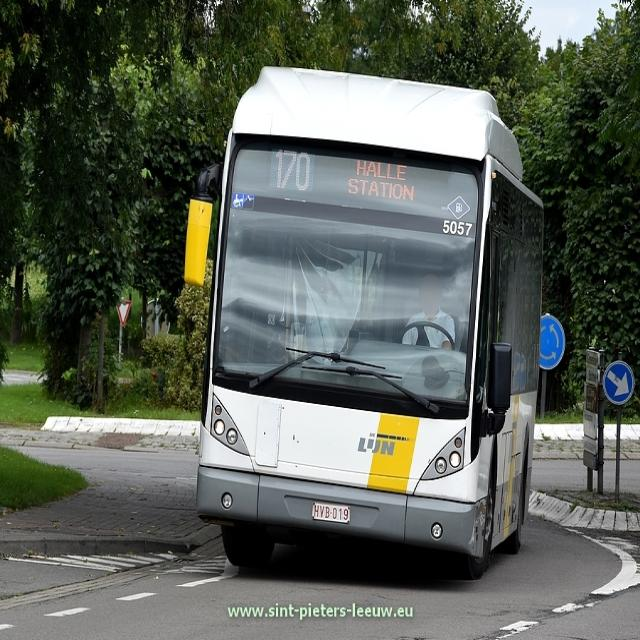bus-number: (273, 146, 312, 194)
